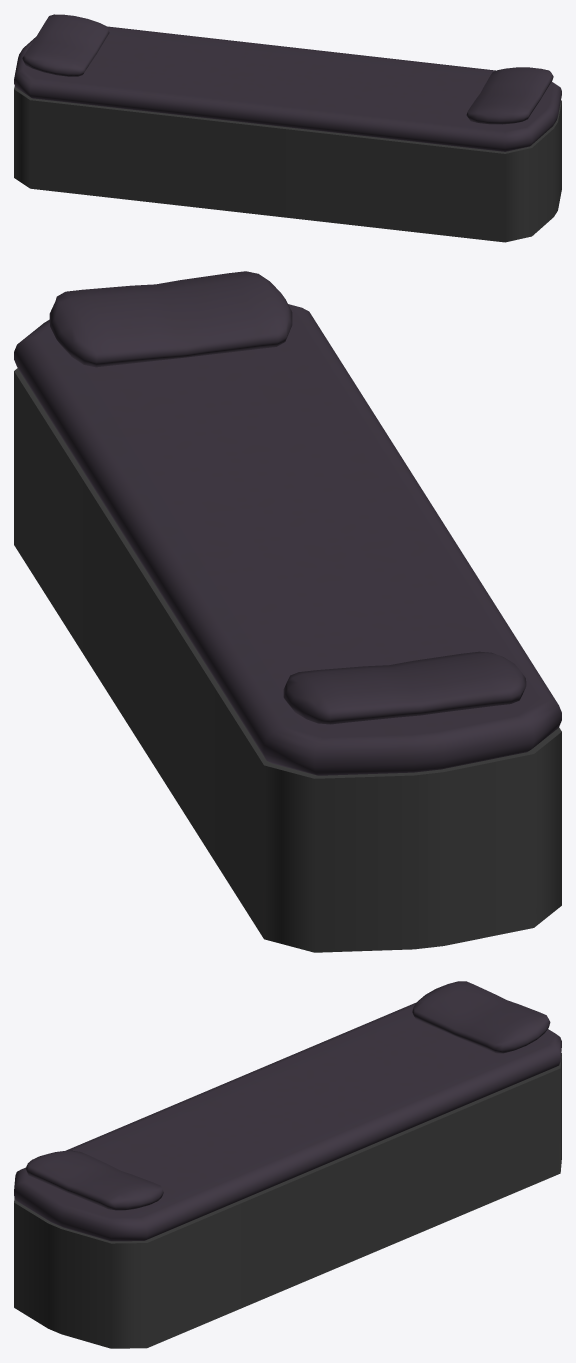
File: StarDeck_Bench2.fbx
3 renders of one model, top to bottom at view 1: azimuth 30°, elevation 25°; view 2: azimuth 150°, elevation 25°; view 3: azimuth 270°, elevation 25°, orthographic. The views are drawn at different scales.
Visible parts, largest first — view 1: StarDeck_Bench2; view 2: StarDeck_Bench2; view 3: StarDeck_Bench2.
Part boxes in pixels (x1,y1,x2,y2): StarDeck_Bench2: (14,14,561,242); StarDeck_Bench2: (14,271,561,952); StarDeck_Bench2: (14,981,561,1348).
Bounding box in the file's own units: 658 × 191 × 658.
